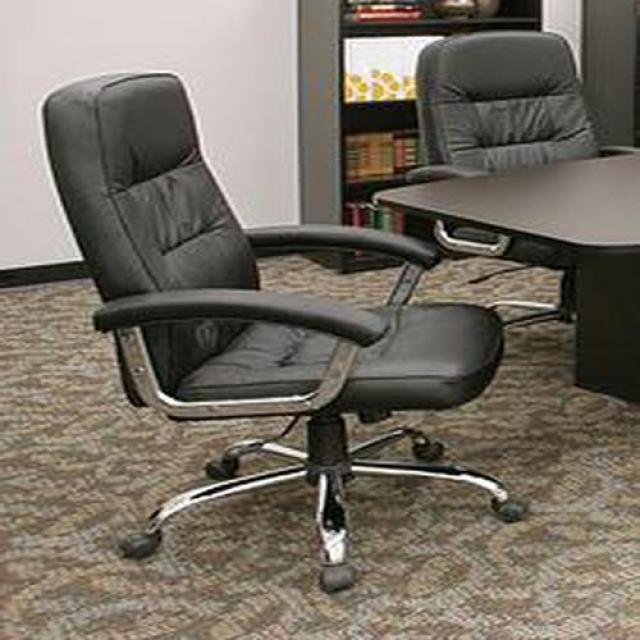swivelchair: (38, 70, 512, 598)
